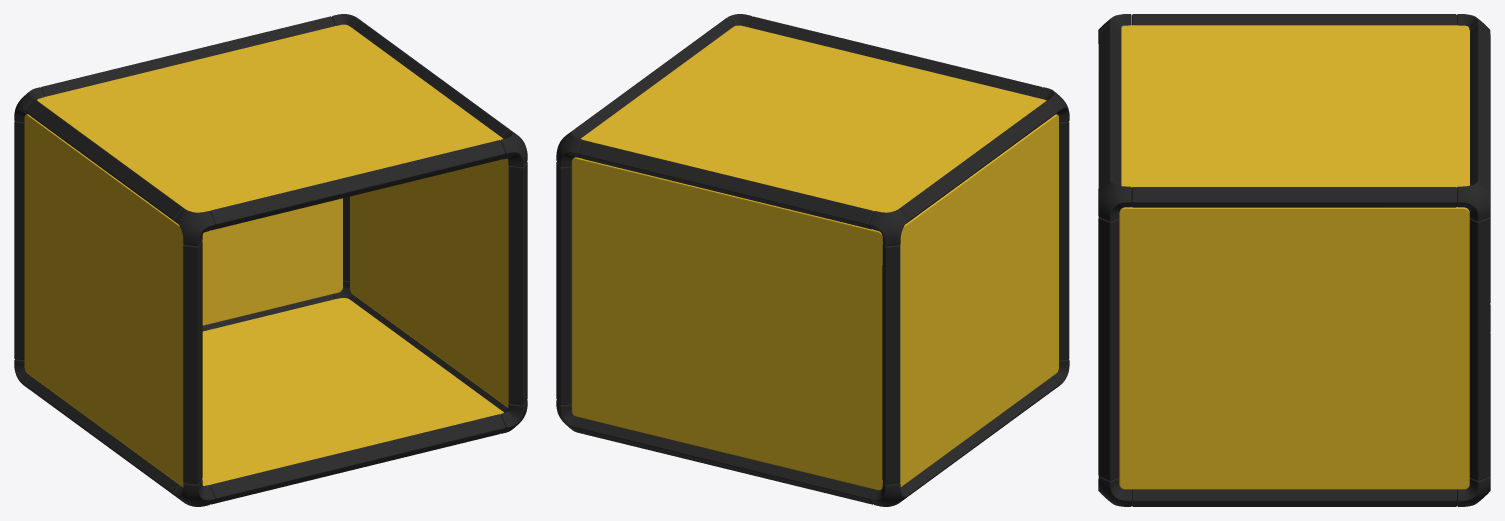
3 views of the same model, side by side, from view 1: azimuth 30°, elevation 25°; view 2: azimuth 150°, elevation 25°; view 3: azimuth 270°, elevation 25° (orthographic). The views are drawn at different scales.
Visible parts, largest first — view 1: 420x374x330; view 2: 420x374x330; view 3: 420x374x330.
Part boxes in pixels (box(x1,y1,x2,y2)): 420x374x330: box(14, 14, 527, 506); 420x374x330: box(556, 14, 1069, 506); 420x374x330: box(1098, 14, 1490, 506).
Bounding box in the file's own units: 0.4977 × 0.4066 × 0.4513.
